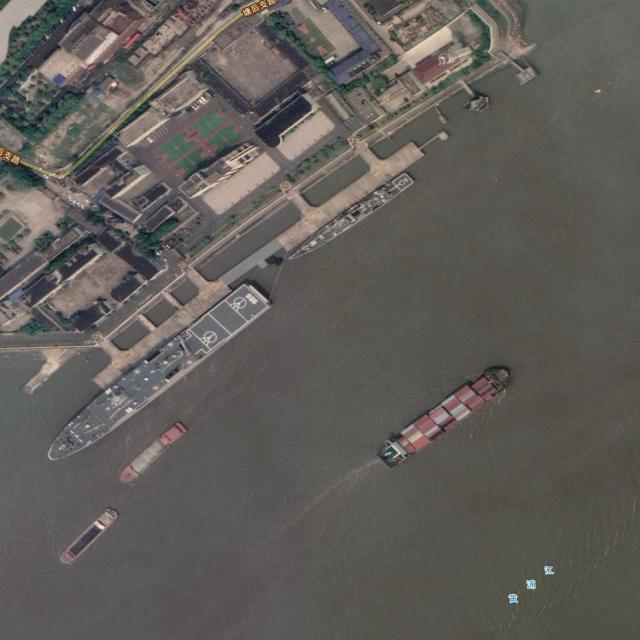Cargo: (116, 421, 188, 487), (55, 504, 121, 568)
Container Ship: (374, 358, 517, 472)
Frigate: (286, 169, 415, 267)
Landing: (39, 276, 273, 476)
